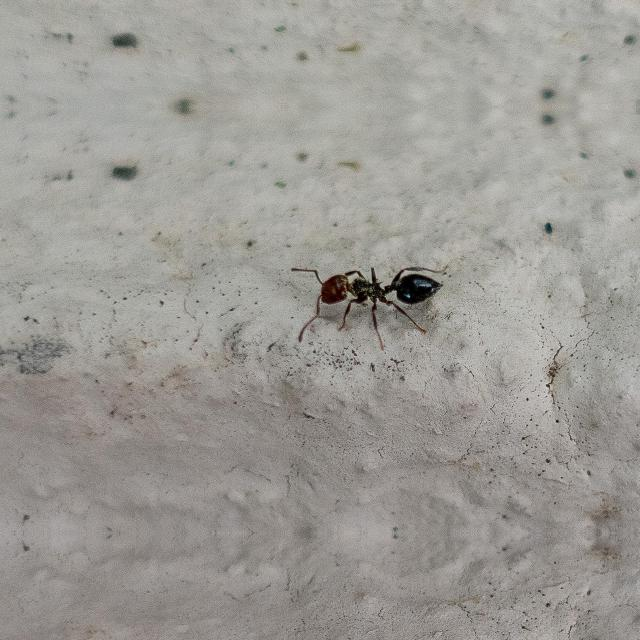Crematogaster: (283, 252, 449, 334)
